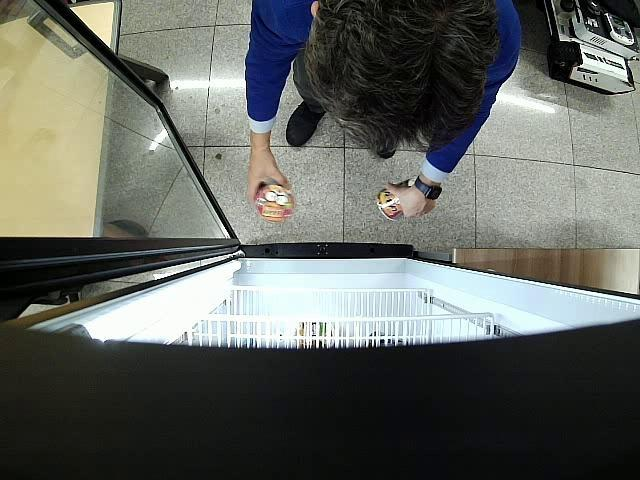06_nuguri_S: (376, 178, 416, 221), (255, 184, 295, 224)
